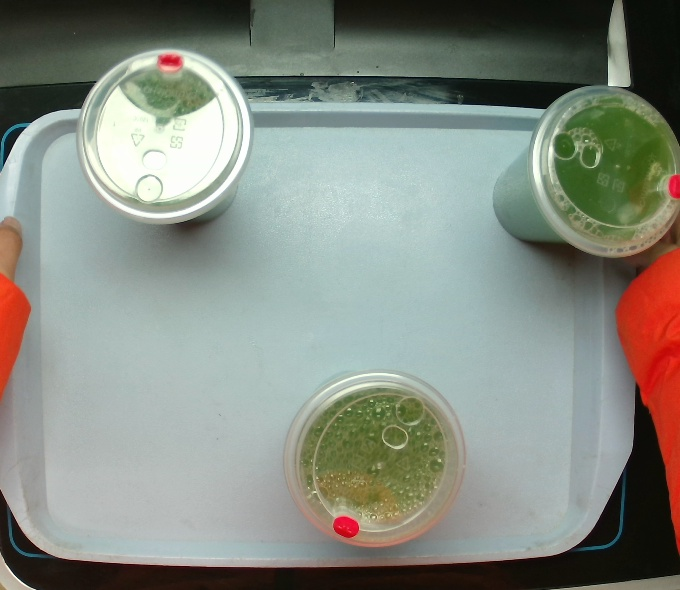wcq-HuangGuaZhi: (280, 365, 468, 550), (490, 82, 679, 260), (74, 45, 255, 229)
